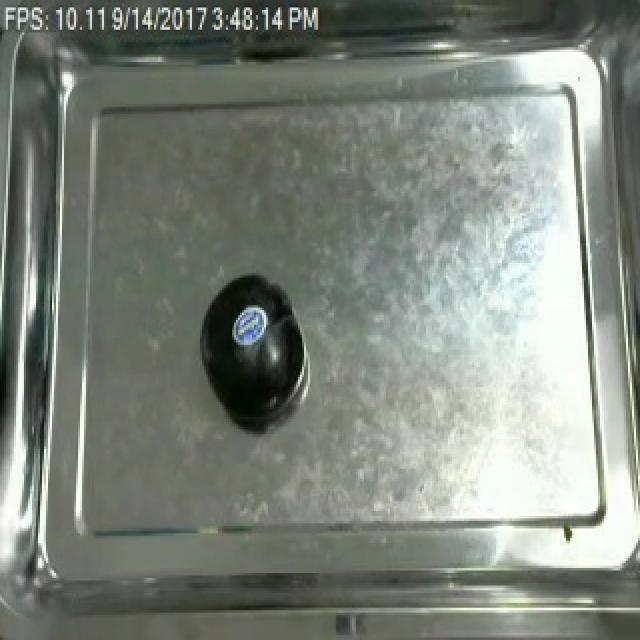Fruit: (192, 265, 306, 422)
